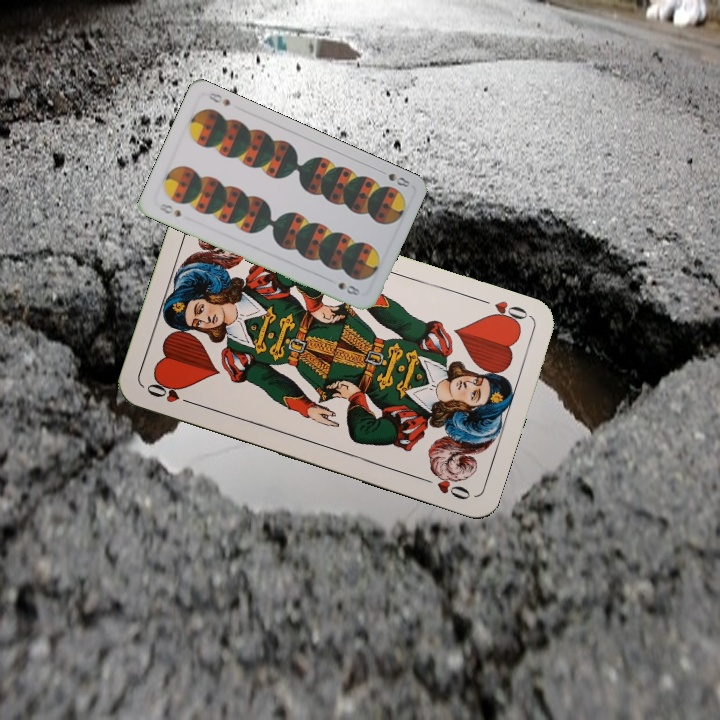HO: (475, 294, 532, 329), (142, 378, 199, 408)
S8: (374, 165, 412, 190), (155, 199, 184, 220)
